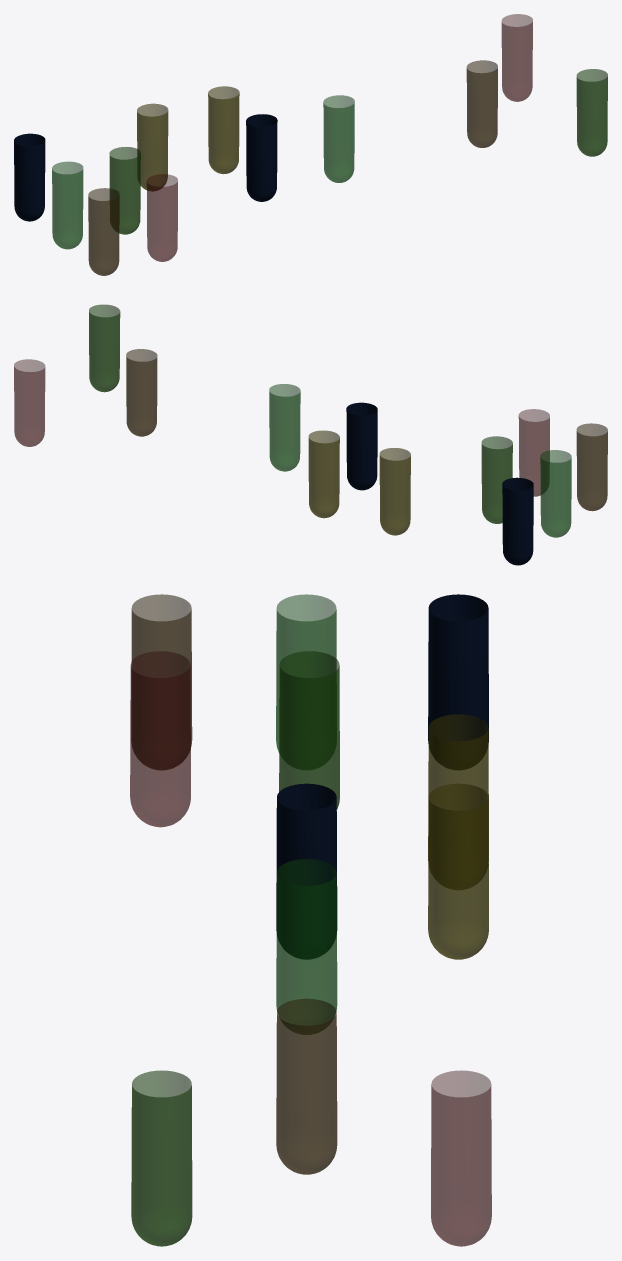
The model's file is test tube liquid.FBX.
3 renders of one model, top to bottom at view 1: azimuth 30°, elevation 25°; view 2: azimuth 150°, elevation 25°; view 3: azimuth 270°, elevation 25°, orthographic. The views are drawn at different scales.
Visible parts, largest first — view 1: test tube liquids; view 2: test tube liquids; view 3: test tube liquids.
Boxes of the visible parts, bbox=[...] form: test tube liquids: bbox=[14, 14, 607, 275]; test tube liquids: bbox=[14, 304, 607, 565]; test tube liquids: bbox=[130, 594, 491, 1246].
Size of the model in its own units: 1.52 by 0.2244 by 0.4606.
